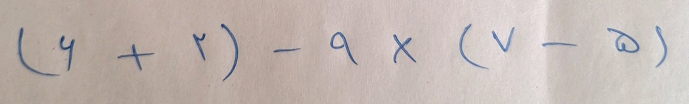character: (16, 20, 57, 79), (457, 21, 490, 72), (215, 19, 240, 83), (116, 38, 156, 72), (604, 24, 641, 57), (328, 30, 360, 68), (390, 32, 422, 67), (491, 24, 519, 58), (540, 37, 583, 57), (59, 30, 78, 74), (652, 21, 669, 69), (191, 27, 209, 68), (272, 42, 300, 58)
